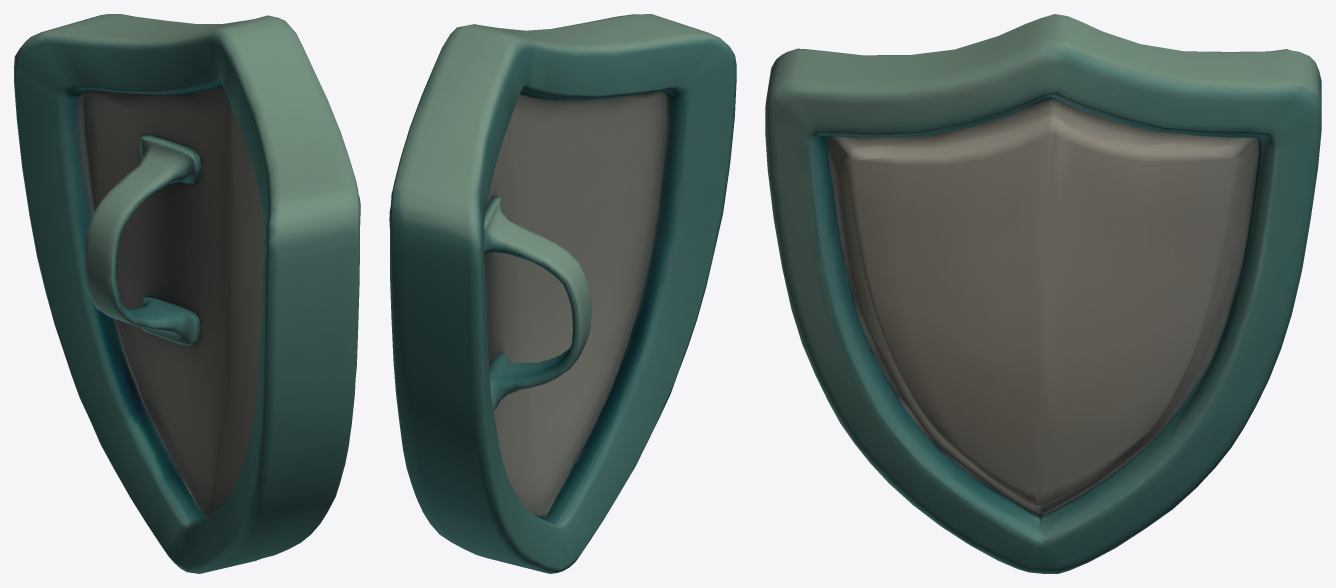
Rendered from icon-shield.glb.
The picture shows the model from 3 angles, left to right: view 1: azimuth 30°, elevation 25°; view 2: azimuth 150°, elevation 25°; view 3: azimuth 270°, elevation 25°; orthographic projection. The views are drawn at different scales.
Parts seen in each view (by area): view 1: tripo_node_kodyurd-model-65____________________; view 2: tripo_node_kodyurd-model-65____________________; view 3: tripo_node_kodyurd-model-65____________________.
Part boxes in pixels (x1,y1,x2,y2): tripo_node_kodyurd-model-65____________________: [14, 14, 360, 573]; tripo_node_kodyurd-model-65____________________: [389, 14, 736, 573]; tripo_node_kodyurd-model-65____________________: [765, 14, 1321, 573].
Bounding box in the file's own units: 0.3379 × 0.998 × 0.9121.
Materials: 1 (1 with a texture image).
